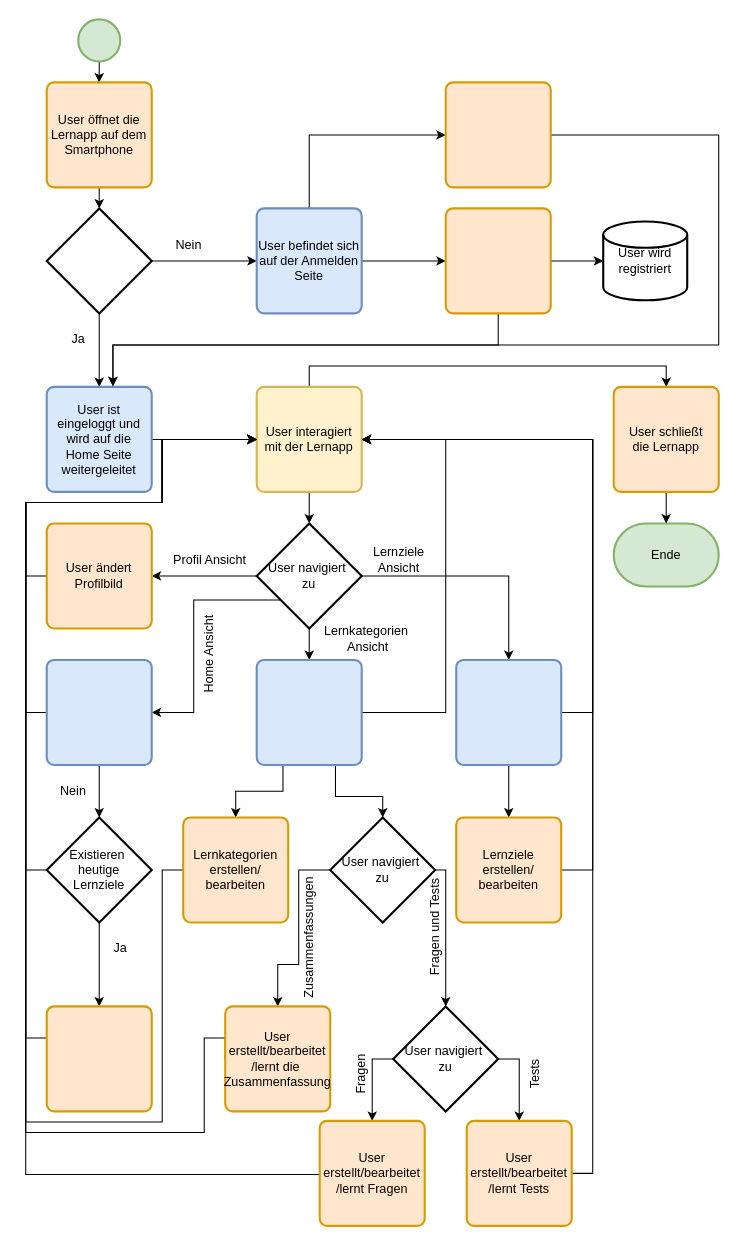
Some shapes in this 745 by 1244 pixel diagram are drawn without their labels. Here are the shapes that lost their labels. From the top down, the box of each, then its label:
(77, 18, 121, 62): Start
(444, 81, 551, 188): Login
(45, 207, 152, 314): Existiert eine Session?
(444, 207, 551, 314): Registrierung
(45, 658, 152, 765): Home Seite
(255, 658, 362, 765): Lernkategorien Seite
(455, 658, 562, 765): Lernziele Seite
(45, 1005, 152, 1112): User arbeitet seine heutigen Lernziele ab
